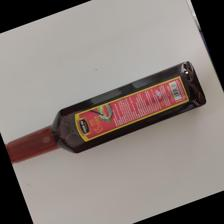Namngu: (1, 57, 207, 170)
